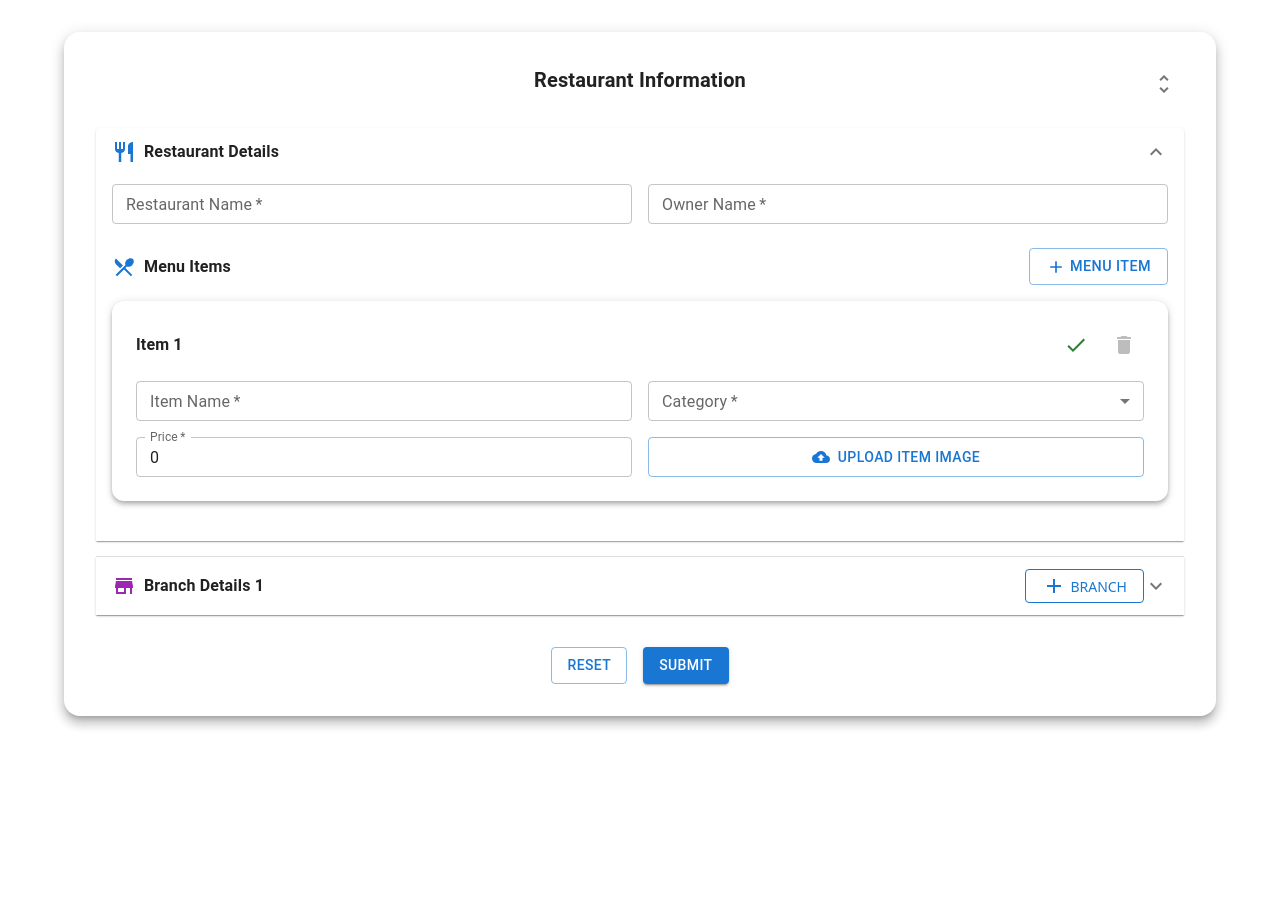
RestaurantInfo Tests › shows validation errors when submitting empty required fields
// Click Submit without filling anything
Click the button "Submit" at (686, 665), box [643,647,728,684]
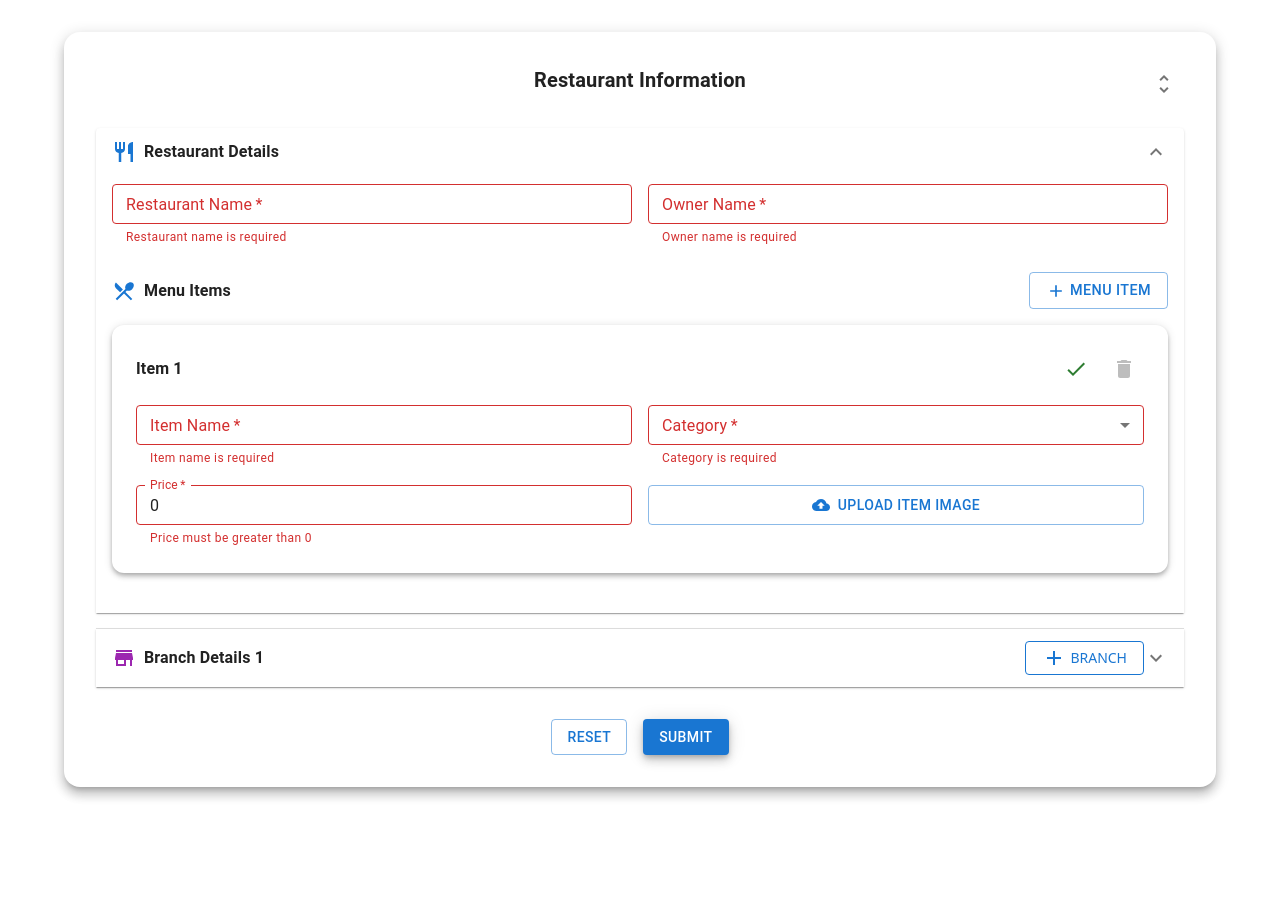
Result: the text "Restaurant name is required" is shown at [126,230,287,244]
